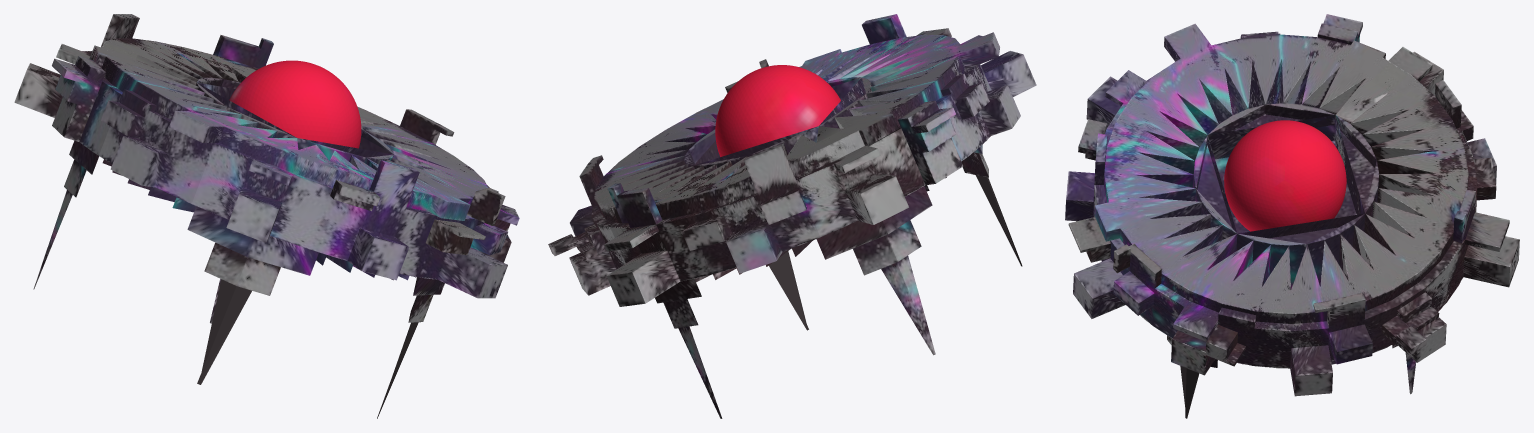
Rendered from Government_Nucleus.glb.
The picture shows the model from 3 angles, left to right: view 1: azimuth 30°, elevation 25°; view 2: azimuth 150°, elevation 25°; view 3: azimuth 270°, elevation 25°; orthographic projection. The views are drawn at different scales.
Parts seen in each view (by area): view 1: Potential, Ethical, Developing_tech, Current, Case; view 2: Potential, Ethical, Developing_tech, Current, Case; view 3: Potential, Developing_tech, Case, Current, Ethical.
Part boxes in pixels (left/top/right/bottom): Potential: left=14, top=14, right=519, bottom=298; Ethical: left=33, top=140, right=444, bottom=418; Developing_tech: left=102, top=52, right=454, bottom=280; Current: left=229, top=60, right=361, bottom=148; Case: left=195, top=77, right=393, bottom=163; Potential: left=548, top=14, right=1036, bottom=306; Ethical: left=655, top=144, right=1022, bottom=418; Developing_tech: left=626, top=50, right=946, bottom=282; Current: left=715, top=65, right=840, bottom=156; Case: left=684, top=77, right=872, bottom=168; Potential: left=1065, top=14, right=1519, bottom=396; Developing_tech: left=1136, top=59, right=1436, bottom=289; Case: left=1193, top=103, right=1379, bottom=289; Current: left=1224, top=120, right=1346, bottom=231; Ethical: left=1167, top=335, right=1416, bottom=418.
Bounding box in the file's own units: 0.3968 × 0.3342 × 0.4437.
2 materials, 2 textured.
